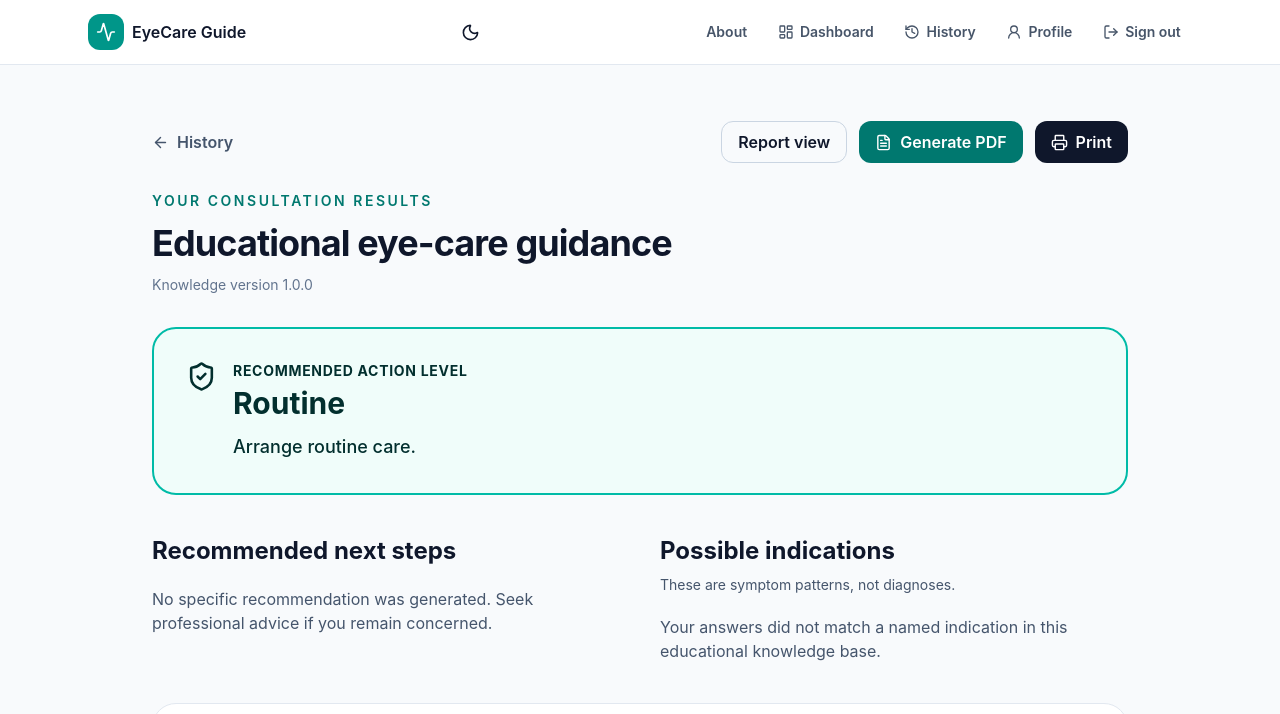
Test case: App authentication experience › keeps report generation failures visible without losing the result
The width and height of the screenshot is (1280, 714).
Click the button "Generate PDF" at (941, 142), box [859, 121, 1023, 163]
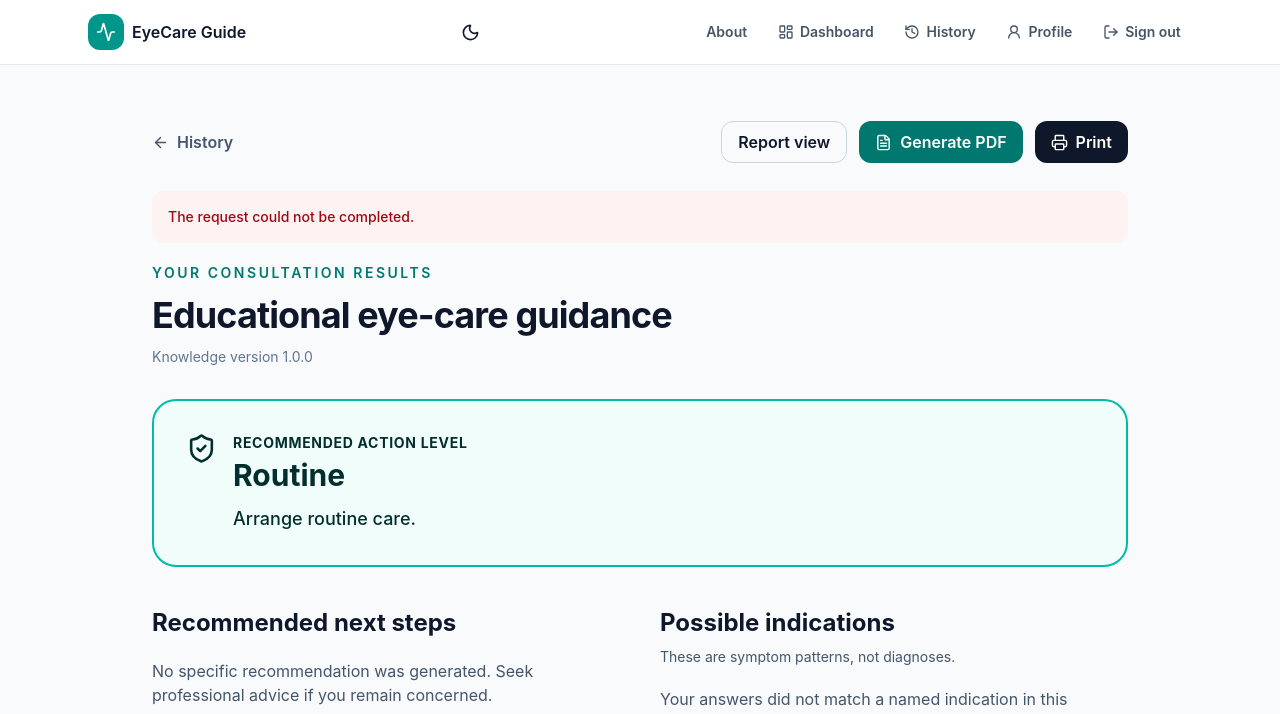
Expected: the heading "Educational eye-care guidance" is shown, [152, 293, 672, 337]
Result: the message shows "request could not be completed" at [168, 208, 414, 225]
